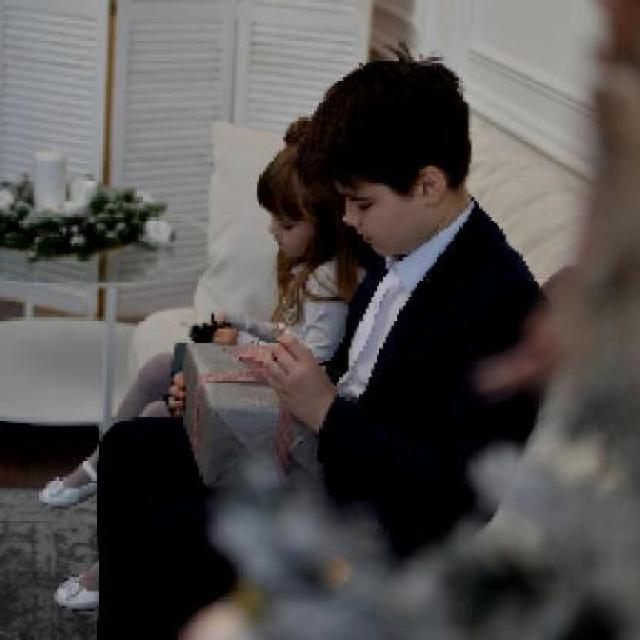child: (112, 113, 354, 416)
